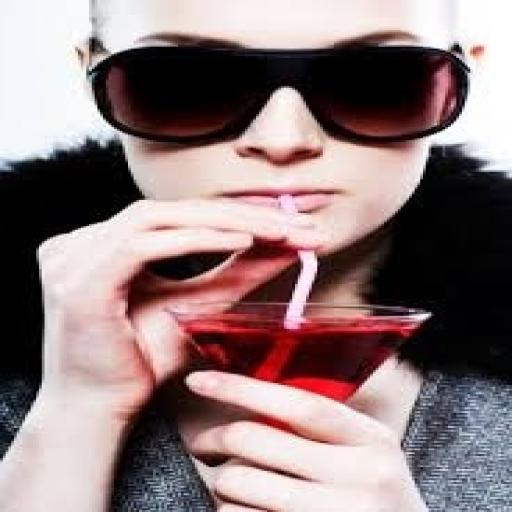drinking: (70, 27, 503, 439)
